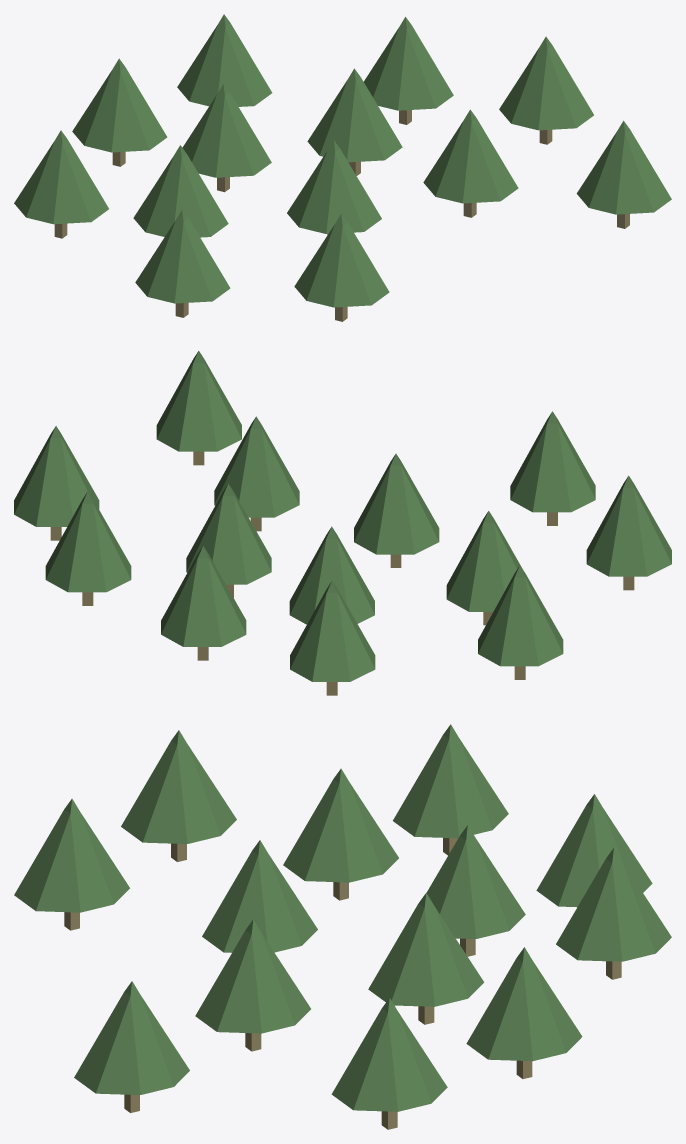
The model's file is deco00.obj.
The picture shows the model from 3 angles, top to bottom: view 1: azimuth 30°, elevation 25°; view 2: azimuth 150°, elevation 25°; view 3: azimuth 270°, elevation 25°; orthographic projection. The views are drawn at different scales.
Parts seen in each view (by area): view 1: Mesh7 Group5 Group1 Model, Mesh11 Group7 Group1 Model, Mesh21 Group12 Group1 Model, Mesh23 Group13 Group1 Model, Mesh19 Group11 Group1 Model, Mesh5 Group4 Group1 Model, Mesh15 Group9 Group1 Model, Mesh17 Group10 Group1 Model, Mesh25 Group14 Group1 Model, Mesh1 Group2 Group1 Model, Mesh3 Group3 Group1 Model, Mesh9 Group6 Group1 Model (+1 smaller); view 2: Mesh17 Group10 Group1 Model, Mesh21 Group12 Group1 Model, Mesh11 Group7 Group1 Model, Mesh3 Group3 Group1 Model, Mesh19 Group11 Group1 Model, Mesh5 Group4 Group1 Model, Mesh15 Group9 Group1 Model, Mesh9 Group6 Group1 Model, Mesh23 Group13 Group1 Model, Mesh7 Group5 Group1 Model, Mesh1 Group2 Group1 Model, Mesh13 Group8 Group1 Model (+1 smaller); view 3: Mesh5 Group4 Group1 Model, Mesh7 Group5 Group1 Model, Mesh13 Group8 Group1 Model, Mesh11 Group7 Group1 Model, Mesh19 Group11 Group1 Model, Mesh23 Group13 Group1 Model, Mesh9 Group6 Group1 Model, Mesh17 Group10 Group1 Model, Mesh1 Group2 Group1 Model, Mesh21 Group12 Group1 Model, Mesh3 Group3 Group1 Model, Mesh25 Group14 Group1 Model (+1 smaller).
Part boxes in pixels (<box>): Mesh7 Group5 Group1 Model: <box>499,36,593,130</box>; Mesh11 Group7 Group1 Model: <box>294,213,389,307</box>; Mesh21 Group12 Group1 Model: <box>14,130,108,224</box>; Mesh23 Group13 Group1 Model: <box>423,109,518,203</box>; Mesh19 Group11 Group1 Model: <box>576,120,671,214</box>; Mesh5 Group4 Group1 Model: <box>135,209,230,303</box>; Mesh15 Group9 Group1 Model: <box>72,58,167,152</box>; Mesh17 Group10 Group1 Model: <box>364,17,453,110</box>; Mesh25 Group14 Group1 Model: <box>182,84,271,177</box>; Mesh1 Group2 Group1 Model: <box>307,68,402,162</box>; Mesh3 Group3 Group1 Model: <box>287,140,381,233</box>; Mesh9 Group6 Group1 Model: <box>177,14,272,106</box>; Mesh17 Group10 Group1 Model: <box>45,491,131,592</box>; Mesh21 Group12 Group1 Model: <box>478,565,563,666</box>; Mesh11 Group7 Group1 Model: <box>510,411,595,512</box>; Mesh3 Group3 Group1 Model: <box>354,453,439,554</box>; Mesh19 Group11 Group1 Model: <box>156,351,241,451</box>; Mesh5 Group4 Group1 Model: <box>586,475,671,576</box>; Mesh15 Group9 Group1 Model: <box>290,581,375,681</box>; Mesh9 Group6 Group1 Model: <box>161,546,246,646</box>; Mesh23 Group13 Group1 Model: <box>214,416,299,517</box>; Mesh7 Group5 Group1 Model: <box>14,426,99,526</box>; Mesh1 Group2 Group1 Model: <box>186,483,271,584</box>; Mesh13 Group8 Group1 Model: <box>446,511,521,611</box>; Mesh5 Group4 Group1 Model: <box>121,730,236,843</box>; Mesh7 Group5 Group1 Model: <box>331,997,447,1111</box>; Mesh13 Group8 Group1 Model: <box>283,768,398,882</box>; Mesh11 Group7 Group1 Model: <box>14,798,129,912</box>; Mesh19 Group11 Group1 Model: <box>74,981,189,1094</box>; Mesh23 Group13 Group1 Model: <box>195,919,310,1033</box>; Mesh9 Group6 Group1 Model: <box>556,848,671,961</box>; Mesh17 Group10 Group1 Model: <box>466,947,582,1061</box>; Mesh1 Group2 Group1 Model: <box>368,893,484,1006</box>; Mesh21 Group12 Group1 Model: <box>393,724,508,838</box>; Mesh3 Group3 Group1 Model: <box>202,840,317,952</box>; Mesh25 Group14 Group1 Model: <box>426,825,525,938</box>.
Size of the model in its own units: 98.28 by 20.55 by 86.14.
